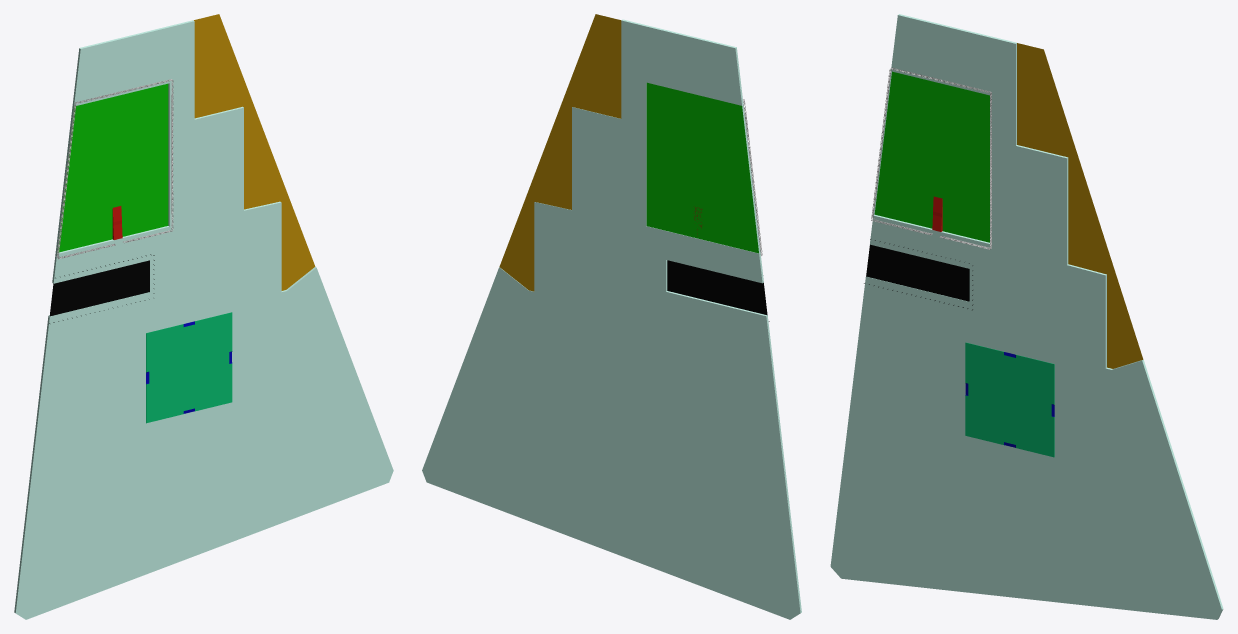
3 renders of one model, left to right at view 1: azimuth 30°, elevation 25°; view 2: azimuth 150°, elevation 25°; view 3: azimuth 330°, elevation 25°, orthographic. The views are drawn at different scales.
Parts seen in each view (by area): view 1: pavement, garden, forbidden, platform, asphalt, Fence_array.001; view 2: pavement, garden, forbidden, asphalt; view 3: pavement, garden, forbidden, platform, asphalt, Fence_array.001.
Boxes of the visible parts, box(x1,y1,x2,y2) form: pavement: box(14, 20, 393, 619); garden: box(57, 83, 168, 252); forbidden: box(194, 14, 315, 290); platform: box(146, 312, 232, 423); asphalt: box(49, 260, 149, 316); Fence_array.001: box(56, 79, 173, 259); pavement: box(422, 19, 801, 619); garden: box(646, 82, 758, 253); forbidden: box(499, 14, 621, 291); asphalt: box(667, 260, 767, 315); pavement: box(830, 14, 1223, 619); garden: box(874, 71, 989, 242); forbidden: box(1017, 43, 1143, 368); platform: box(965, 342, 1054, 457); asphalt: box(866, 244, 969, 301); Fence_array.001: box(871, 67, 991, 249).
Size of the model in its own units: 176 by 248 by 2.62.
